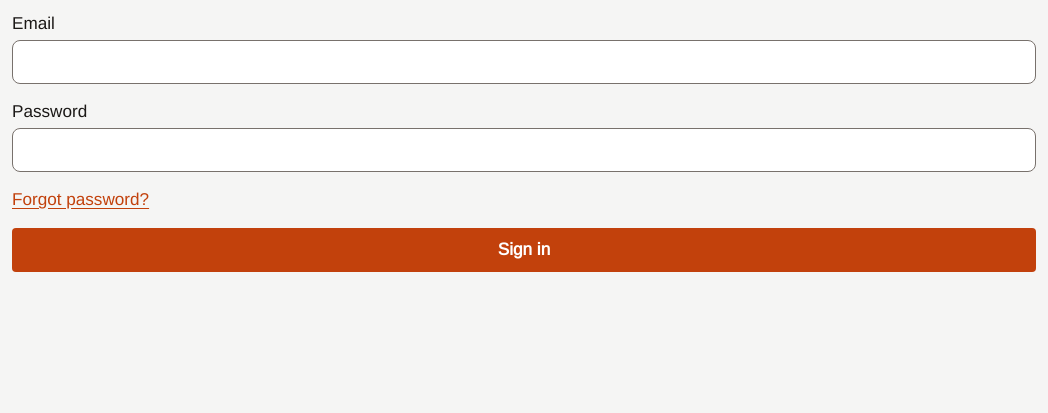
LoginForm › offers to resend the verification link when the email is not verified
The width and height of the screenshot is (1048, 413).
Type "new@b.test" into the field labelled "Email" at (524, 62), box left=12, top=40, right=1036, bottom=84
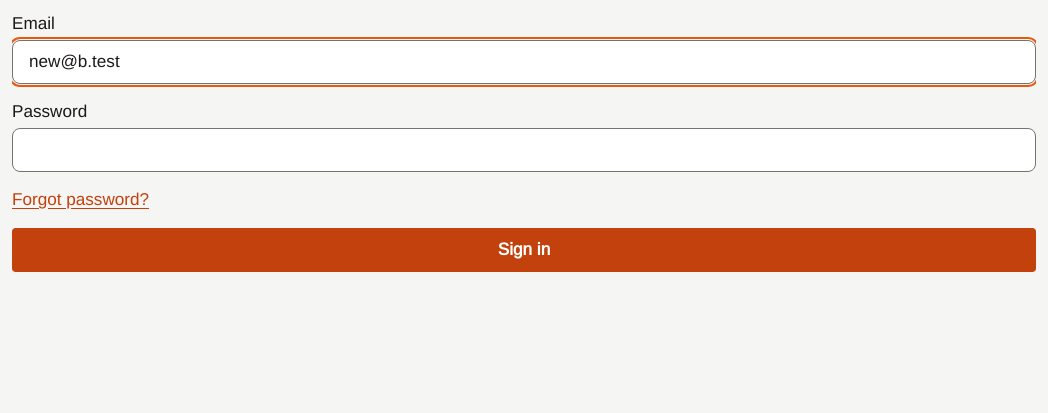
Type "Correct-Horse-9" into the password field labelled "Password" at (524, 150), box left=12, top=128, right=1036, bottom=172
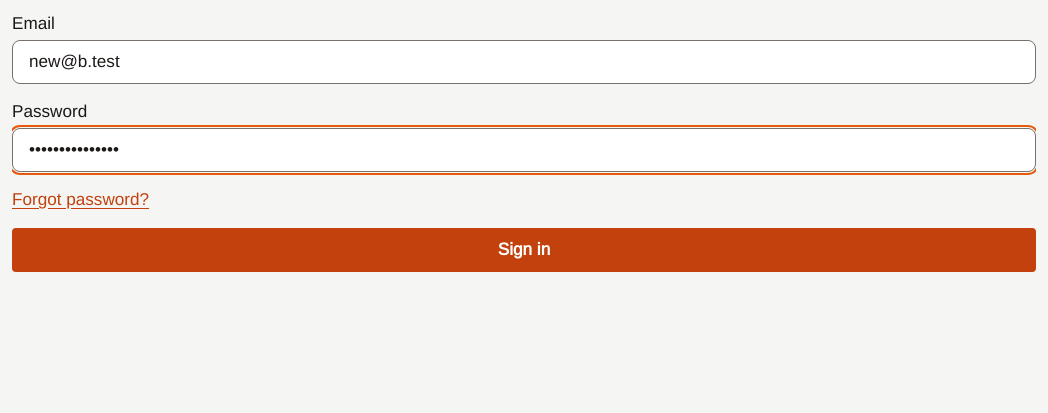
Click the button "Sign in" at (524, 250), box left=12, top=228, right=1036, bottom=272
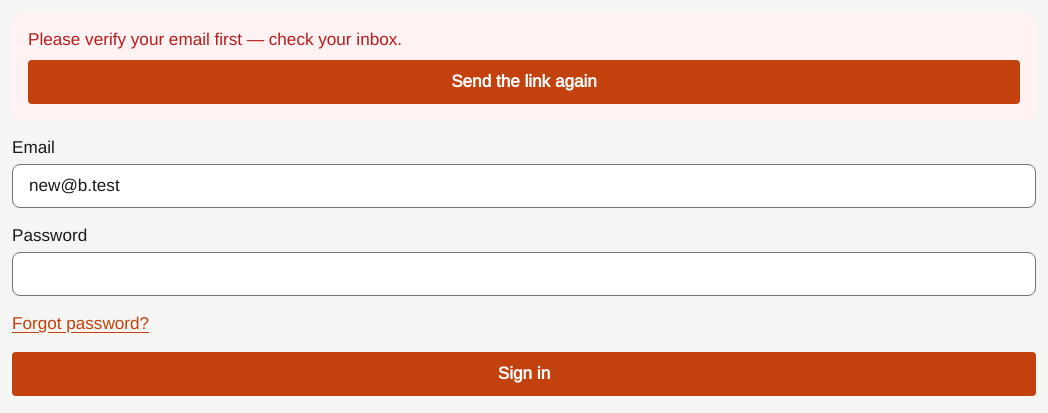
Click the button "Send the link again" at (524, 82), box left=28, top=60, right=1020, bottom=104
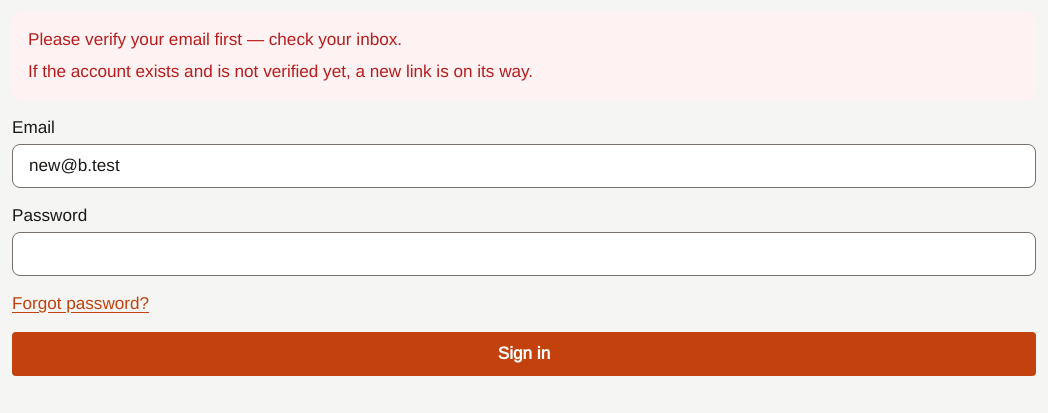
expect the text "a new link is on its way" is shown: met, box left=28, top=62, right=533, bottom=81
